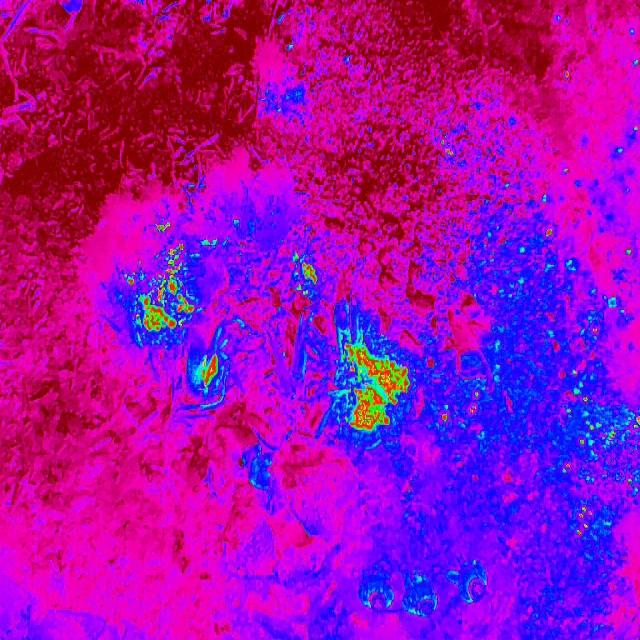fire: (530, 224, 640, 546), (334, 335, 416, 433), (120, 245, 196, 340), (436, 389, 488, 432), (290, 253, 324, 299), (195, 351, 222, 391), (434, 132, 456, 163), (156, 220, 173, 234)
